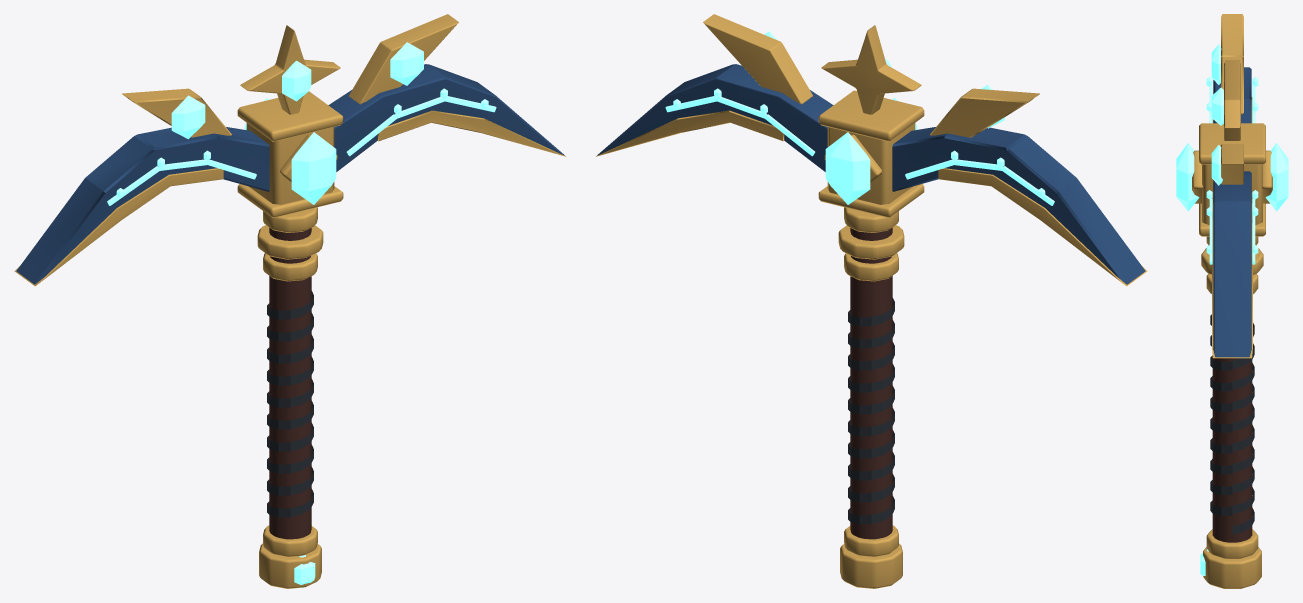
File: estelar.glb
3 views of the same model, side by side, from view 1: azimuth 30°, elevation 25°; view 2: azimuth 150°, elevation 25°; view 3: azimuth 270°, elevation 25° (orthographic). The views are drawn at different scales.
Parts seen in each view (by area): view 1: estelar__Royal_gold.001, estelar__Celestial_blue.001, estelar__Starlight.001, estelar__Leather.001, estelar__Blackened_metal.001; view 2: estelar__Royal_gold.001, estelar__Celestial_blue.001, estelar__Leather.001, estelar__Starlight.001, estelar__Blackened_metal.001; view 3: estelar__Royal_gold.001, estelar__Celestial_blue.001, estelar__Leather.001, estelar__Starlight.001, estelar__Blackened_metal.001.
Part boxes in pixels (x1,y1,x2,y2): estelar__Royal_gold.001: (14, 14, 565, 588); estelar__Celestial_blue.001: (16, 64, 564, 284); estelar__Starlight.001: (107, 42, 496, 588); estelar__Leather.001: (269, 227, 311, 539); estelar__Blackened_metal.001: (267, 291, 313, 517); estelar__Royal_gold.001: (596, 14, 1147, 588); estelar__Celestial_blue.001: (597, 64, 1145, 284); estelar__Leather.001: (850, 227, 892, 539); estelar__Starlight.001: (665, 31, 1054, 205); estelar__Blackened_metal.001: (848, 298, 894, 524); estelar__Royal_gold.001: (1192, 14, 1272, 588); estelar__Celestial_blue.001: (1213, 67, 1251, 357); estelar__Leather.001: (1212, 358, 1252, 542); estelar__Starlight.001: (1176, 44, 1288, 576); estelar__Blackened_metal.001: (1210, 314, 1254, 534).
Bounding box in the file's own units: 3.79 × 3.76 × 0.7359.
